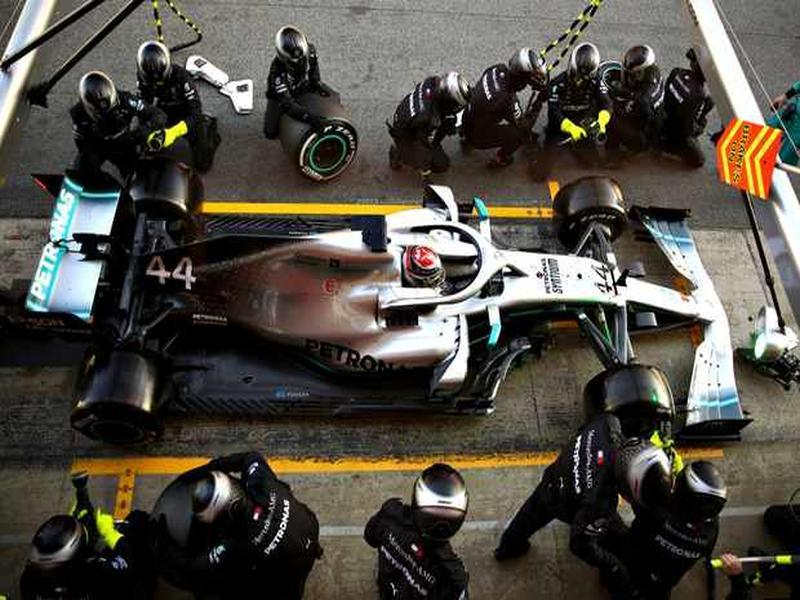f1: (32, 134, 787, 456)
